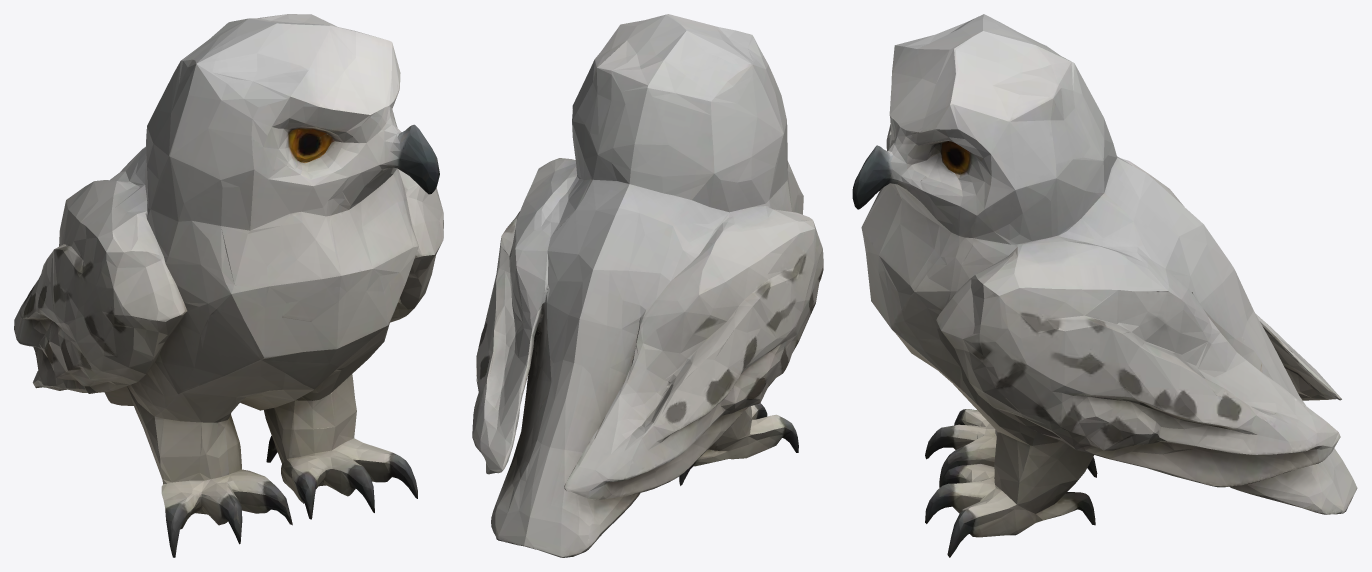
The model's file is snowy_owl_variant.glb.
The picture shows the model from 3 angles, left to right: view 1: azimuth 30°, elevation 25°; view 2: azimuth 150°, elevation 25°; view 3: azimuth 270°, elevation 25°; orthographic projection. The views are drawn at different scales.
Visible parts, largest first — view 1: world; view 2: world; view 3: world.
Boxes of the visible parts, box(x1,y1,x2,y2) form: world: box(14, 14, 443, 557); world: box(472, 14, 823, 557); world: box(852, 14, 1357, 557).
Bounding box in the file's own units: 0.7235 × 0.997 × 0.9683.
1 material, 1 textured.
